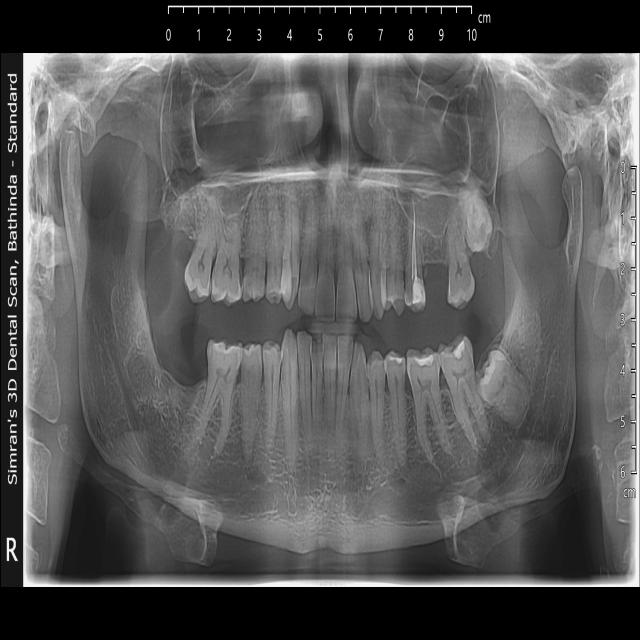Caries: (469, 213, 490, 256)
Filling: (406, 346, 439, 394), (439, 339, 470, 379), (385, 347, 405, 384)
Missing teeth: (166, 351, 195, 423), (426, 231, 442, 293)
Root Canal Treatment: (404, 197, 423, 310)
impacted tooth: (483, 344, 537, 433), (463, 188, 494, 252)
